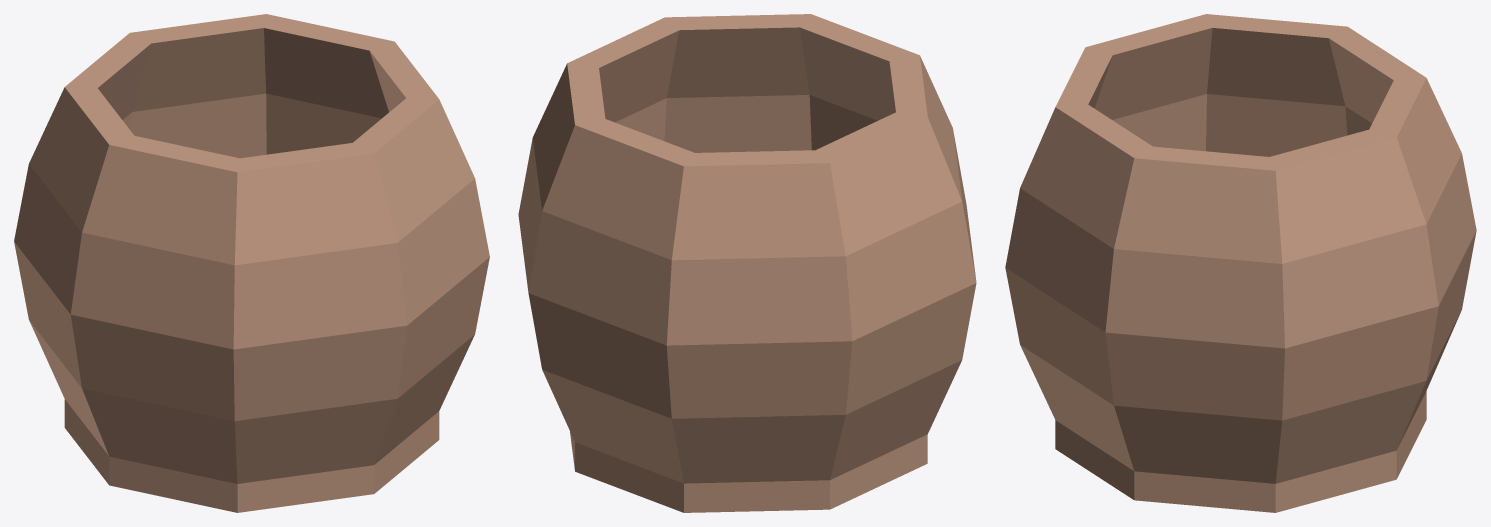
File: Barrel_Open_Empty Asia.fbx
3 views of the same model, side by side, from view 1: azimuth 30°, elevation 25°; view 2: azimuth 150°, elevation 25°; view 3: azimuth 270°, elevation 25° (orthographic).
Parts seen in each view (by area): view 1: Barrel_Open_Empty; view 2: Barrel_Open_Empty; view 3: Barrel_Open_Empty.
Boxes of the visible parts, x1=… form: Barrel_Open_Empty: x1=14, y1=14, x2=489, y2=512; Barrel_Open_Empty: x1=518, y1=14, x2=976, y2=512; Barrel_Open_Empty: x1=1005, y1=14, x2=1476, y2=512.
Bounding box in the file's own units: 0.4232 × 0.339 × 0.4232.
